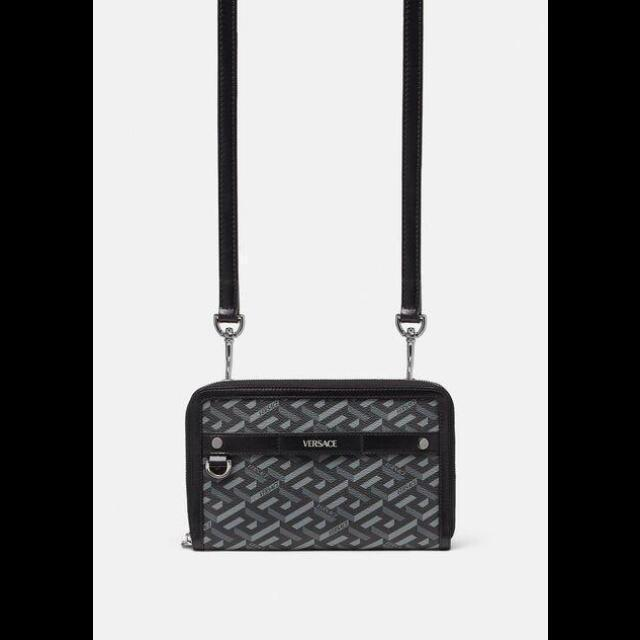wallet: (184, 378, 456, 554)
